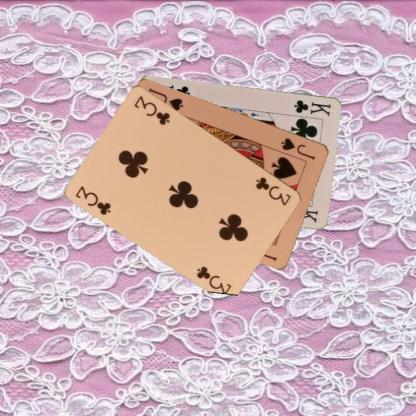3c: (72, 182, 112, 216), (253, 174, 293, 207)
Js: (278, 134, 316, 162)
Kc: (292, 97, 332, 117)
